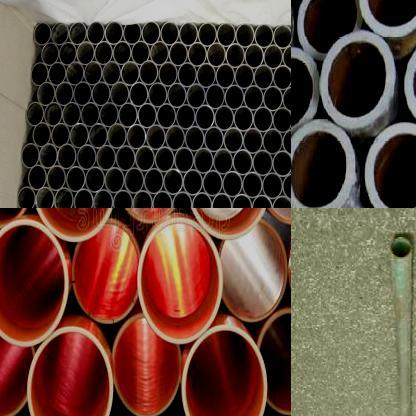pipe: (136, 219, 223, 344), (0, 219, 67, 345), (182, 325, 268, 416), (26, 327, 113, 416), (320, 30, 396, 128), (72, 218, 140, 324), (218, 221, 288, 322), (111, 315, 181, 416), (291, 120, 356, 208), (365, 122, 416, 208), (296, 0, 363, 60), (256, 308, 291, 415), (0, 317, 34, 416), (31, 208, 117, 242), (185, 208, 272, 239), (291, 46, 320, 138), (262, 128, 284, 156), (252, 150, 274, 177), (182, 169, 204, 196), (262, 172, 283, 200), (163, 168, 184, 196), (222, 171, 243, 198), (242, 172, 263, 199), (233, 149, 254, 176), (104, 167, 125, 194), (202, 170, 223, 197), (213, 148, 233, 176), (96, 144, 116, 172), (193, 148, 214, 174), (223, 128, 244, 154), (115, 146, 136, 172), (124, 168, 145, 194), (156, 104, 177, 130), (233, 106, 254, 132), (174, 147, 194, 174), (204, 126, 224, 153), (144, 168, 164, 195), (46, 165, 66, 192), (166, 125, 186, 152), (155, 146, 175, 173), (107, 123, 127, 150), (214, 106, 235, 131), (224, 85, 245, 110), (187, 42, 208, 67), (253, 106, 273, 132), (66, 166, 86, 192), (184, 126, 204, 152), (146, 124, 166, 150), (186, 84, 206, 110), (263, 86, 283, 112), (126, 124, 146, 150), (176, 104, 196, 130), (205, 84, 225, 110), (118, 102, 138, 128), (254, 64, 274, 90), (138, 103, 158, 129), (167, 82, 187, 108), (70, 123, 90, 149), (77, 144, 97, 170), (234, 64, 254, 90), (88, 124, 108, 150), (196, 63, 216, 89), (178, 62, 198, 88), (226, 43, 246, 69), (264, 44, 284, 70), (158, 62, 178, 88), (206, 42, 226, 68), (80, 102, 100, 128), (129, 82, 149, 108), (243, 128, 263, 154), (99, 102, 119, 128), (135, 146, 155, 172), (32, 122, 52, 148), (195, 105, 215, 131), (148, 82, 168, 108), (272, 150, 291, 177), (39, 143, 58, 170), (86, 166, 104, 194), (244, 86, 264, 111), (216, 64, 236, 89), (244, 44, 264, 69), (254, 24, 274, 49), (110, 82, 130, 107), (150, 41, 170, 66), (86, 21, 106, 46), (139, 61, 159, 86), (28, 165, 47, 191), (272, 107, 291, 133), (21, 143, 40, 169), (216, 22, 235, 48), (198, 22, 217, 48), (62, 102, 81, 128), (73, 81, 92, 107), (131, 40, 150, 66), (390, 236, 412, 258), (160, 22, 180, 46), (51, 123, 70, 148), (169, 42, 188, 67), (94, 41, 113, 66), (102, 61, 121, 86), (44, 102, 63, 127), (113, 41, 132, 66), (76, 41, 95, 66), (121, 61, 140, 86), (58, 144, 76, 170), (55, 82, 74, 106), (179, 22, 198, 46), (37, 82, 56, 106), (105, 22, 124, 46), (33, 22, 52, 46), (273, 65, 291, 90), (273, 24, 291, 49), (26, 102, 44, 127), (69, 21, 87, 46), (236, 23, 254, 48), (31, 62, 49, 87), (84, 61, 102, 86), (122, 22, 141, 45), (142, 22, 160, 46), (58, 42, 76, 66), (41, 42, 59, 66), (52, 22, 70, 46), (66, 62, 84, 86), (48, 62, 66, 86), (92, 82, 110, 106), (54, 187, 74, 208), (73, 188, 94, 208), (17, 186, 36, 208), (35, 186, 54, 208), (112, 189, 133, 208), (93, 189, 113, 208), (152, 190, 172, 208), (133, 190, 153, 208), (172, 191, 192, 208), (191, 192, 212, 208), (211, 192, 232, 208), (231, 193, 252, 208), (252, 194, 273, 208), (272, 195, 291, 208), (282, 173, 291, 200), (282, 129, 291, 155), (282, 86, 291, 112), (282, 45, 291, 70)
